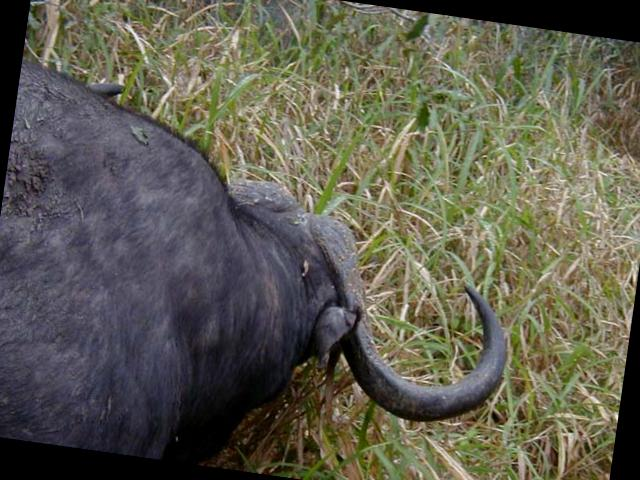Buffalo: (0, 48, 565, 478)
